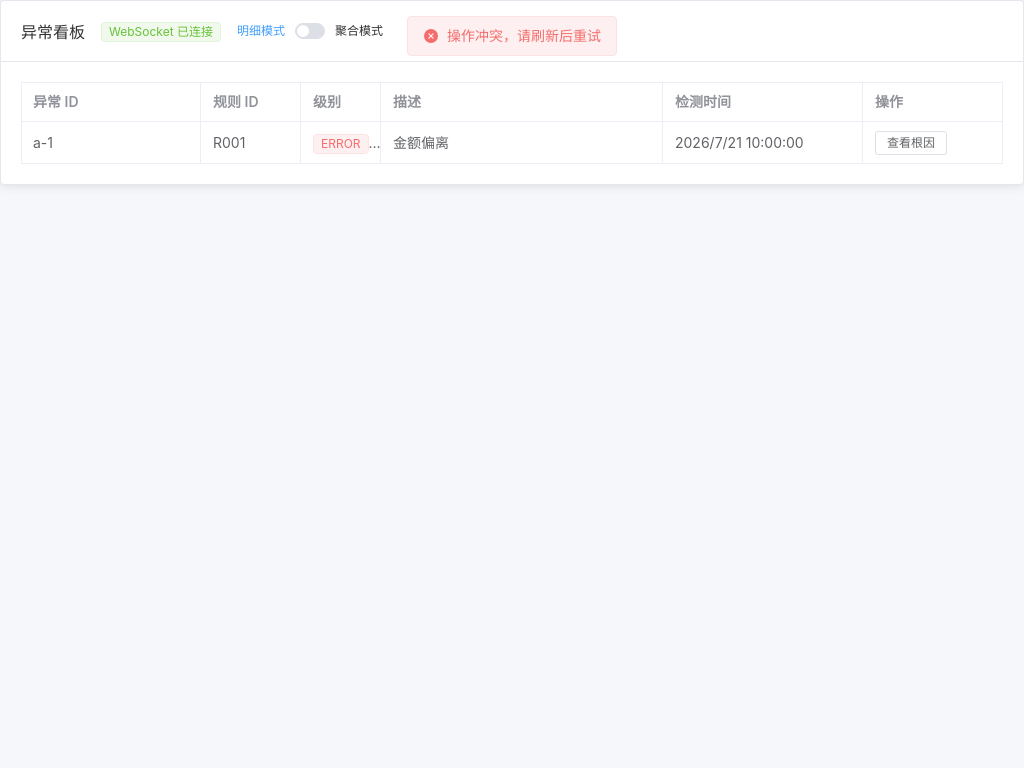
Test case: AnomalyDashboard › 根因分析失败时，相似案例仍可独立加载并展示
The image size is (1024, 768).
Click the button with test id "anomaly-item-a-1" at coordinates (911, 143), box top-left (875, 131), bottom-right (947, 155)
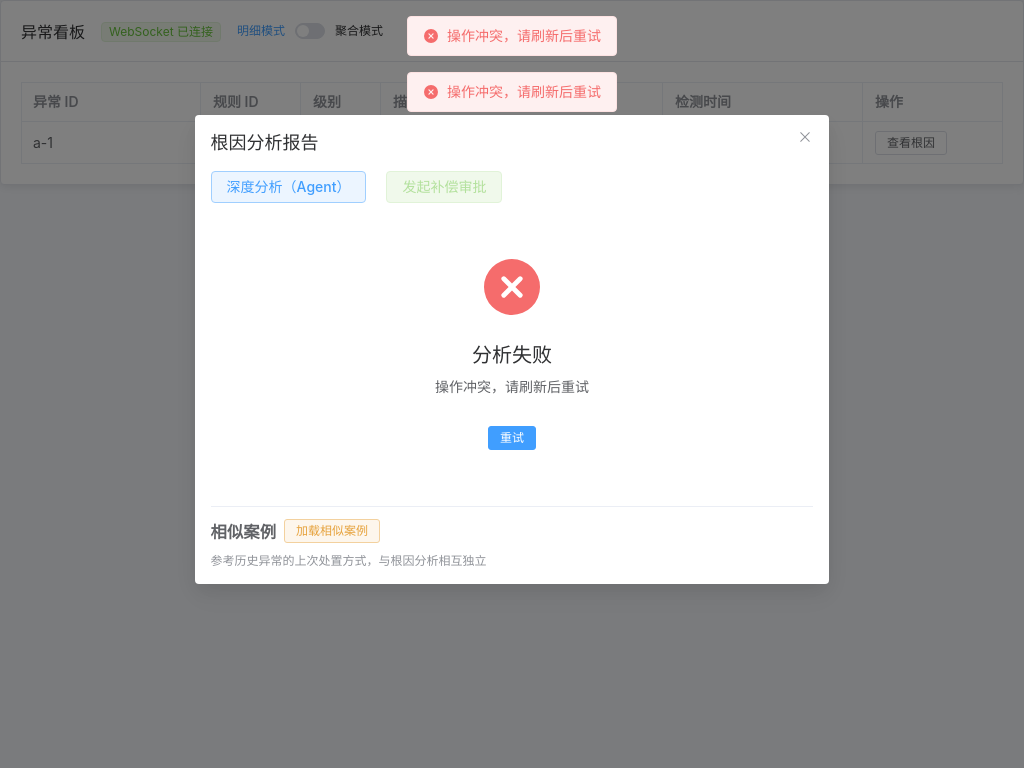
Now the text "分析失败" is shown, box top-left (472, 342), bottom-right (552, 368)
Now the button "加载相似案例" is shown
Click the button "加载相似案例" at coordinates (332, 531), box top-left (284, 519), bottom-right (380, 543)
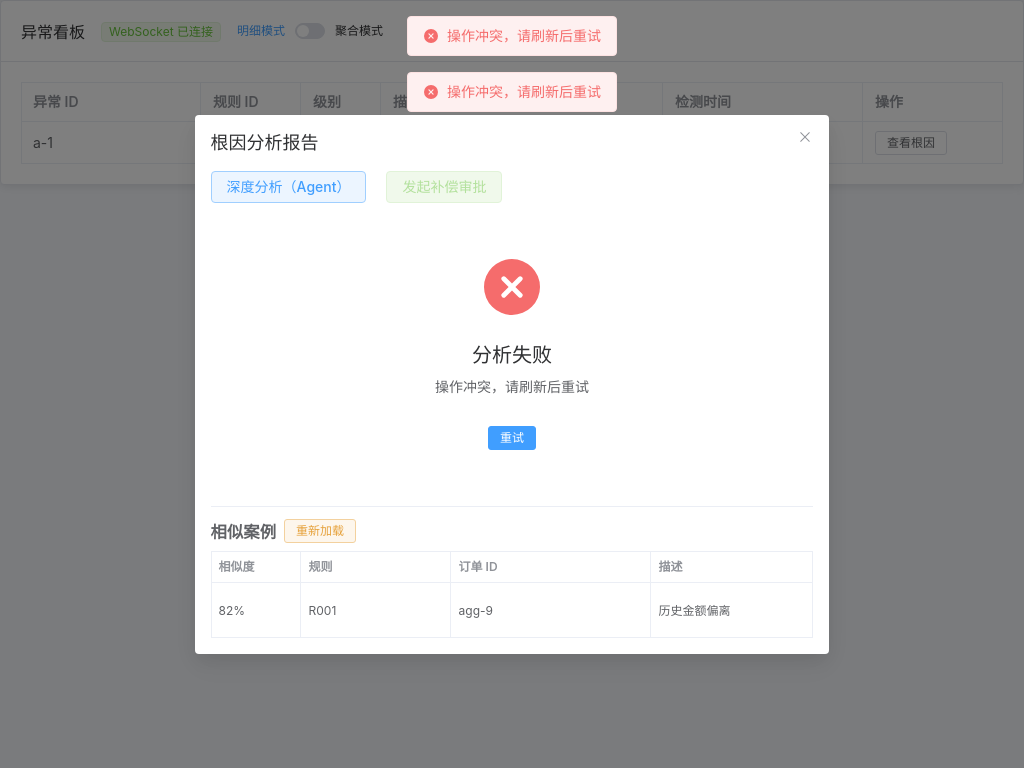
Now the text "历史金额偏离" is shown, box top-left (659, 603), bottom-right (731, 618)
Now the text "82%" is shown, box top-left (219, 603), bottom-right (245, 618)
